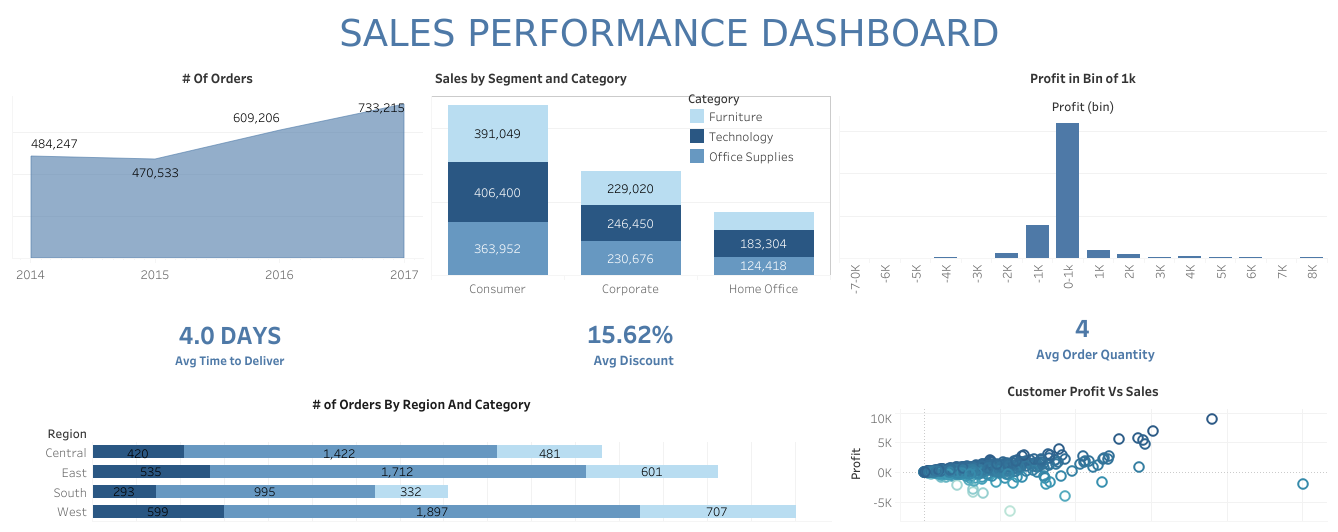

This screenshot's page, from the dashboard's own definition file:
{"tool":"tableau","page":{"name":"Dashboard 1","canvas":[1000,1000],"units":"permille","ordinal":0},"visuals":[{"type":"title","box":[5.1,9.9,989.8,62]},{"type":"worksheet","title":"# of orders","mark":"Area","rows":["Sales"],"cols":["Order Date"],"box":[5.1,72,313.3,478.9]},{"type":"worksheet","title":"Sales by Segment and Category","mark":"Automatic","rows":["Sales"],"cols":["Segment"],"box":[318.4,72,305.7,478.9]},{"type":"worksheet","title":"Profit in Bin of 1k","mark":"Automatic","rows":["Sales"],"cols":["Profit (bin)"],"box":[624.1,72,370.8,478.9]},{"type":"legend","title":"Sales by Segment and Category","param":"[federated.00m90g61qgssh21by7q5q1pv9r1o].[none:Category:nk]","box":[513.1,163.8,109.8,157.6]},{"type":"worksheet","title":"Avg Time to Deliver","mark":"Automatic","box":[5.1,550.9,313.3,162.9]},{"type":"worksheet","title":"Avg Discount","mark":"Automatic","box":[318.4,550.9,305.7,162.9]},{"type":"worksheet","title":"Avg Order Quantity","mark":"Automatic","box":[624.1,550.9,370.8,137.4]},{"type":"worksheet","title":"Customer Profit Vs Sales","mark":"Automatic","rows":["Profit"],"cols":["Sales"],"box":[624.1,688.3,370.8,301.8]},{"type":"worksheet","title":"# of Orders By Region And Category","mark":"Automatic","rows":["Region"],"cols":["Calculation_1964976812958949380"],"box":[5.1,713.7,619,276.3]}]}

Visuals, with their boxes on the dashboard's canvas, which has no fixed pixel size, in thousandths of its width and height (x1, y1, x2, y2). These are canvas units, not pixel positions in the 1338x532 screenshot, which may show the page scaled, cropped or inside an application window:
title: pyautogui.locateOnScreen(5, 10, 995, 72)
"# of orders" worksheet (Area marks): pyautogui.locateOnScreen(5, 72, 318, 551)
"Sales by Segment and Category" worksheet: pyautogui.locateOnScreen(318, 72, 624, 551)
"Profit in Bin of 1k" worksheet: pyautogui.locateOnScreen(624, 72, 995, 551)
"Sales by Segment and Category" legend: pyautogui.locateOnScreen(513, 164, 623, 321)
"Avg Time to Deliver" worksheet: pyautogui.locateOnScreen(5, 551, 318, 714)
"Avg Discount" worksheet: pyautogui.locateOnScreen(318, 551, 624, 714)
"Avg Order Quantity" worksheet: pyautogui.locateOnScreen(624, 551, 995, 688)
"Customer Profit Vs Sales" worksheet: pyautogui.locateOnScreen(624, 688, 995, 990)
"# of Orders By Region And Category" worksheet: pyautogui.locateOnScreen(5, 714, 624, 990)
